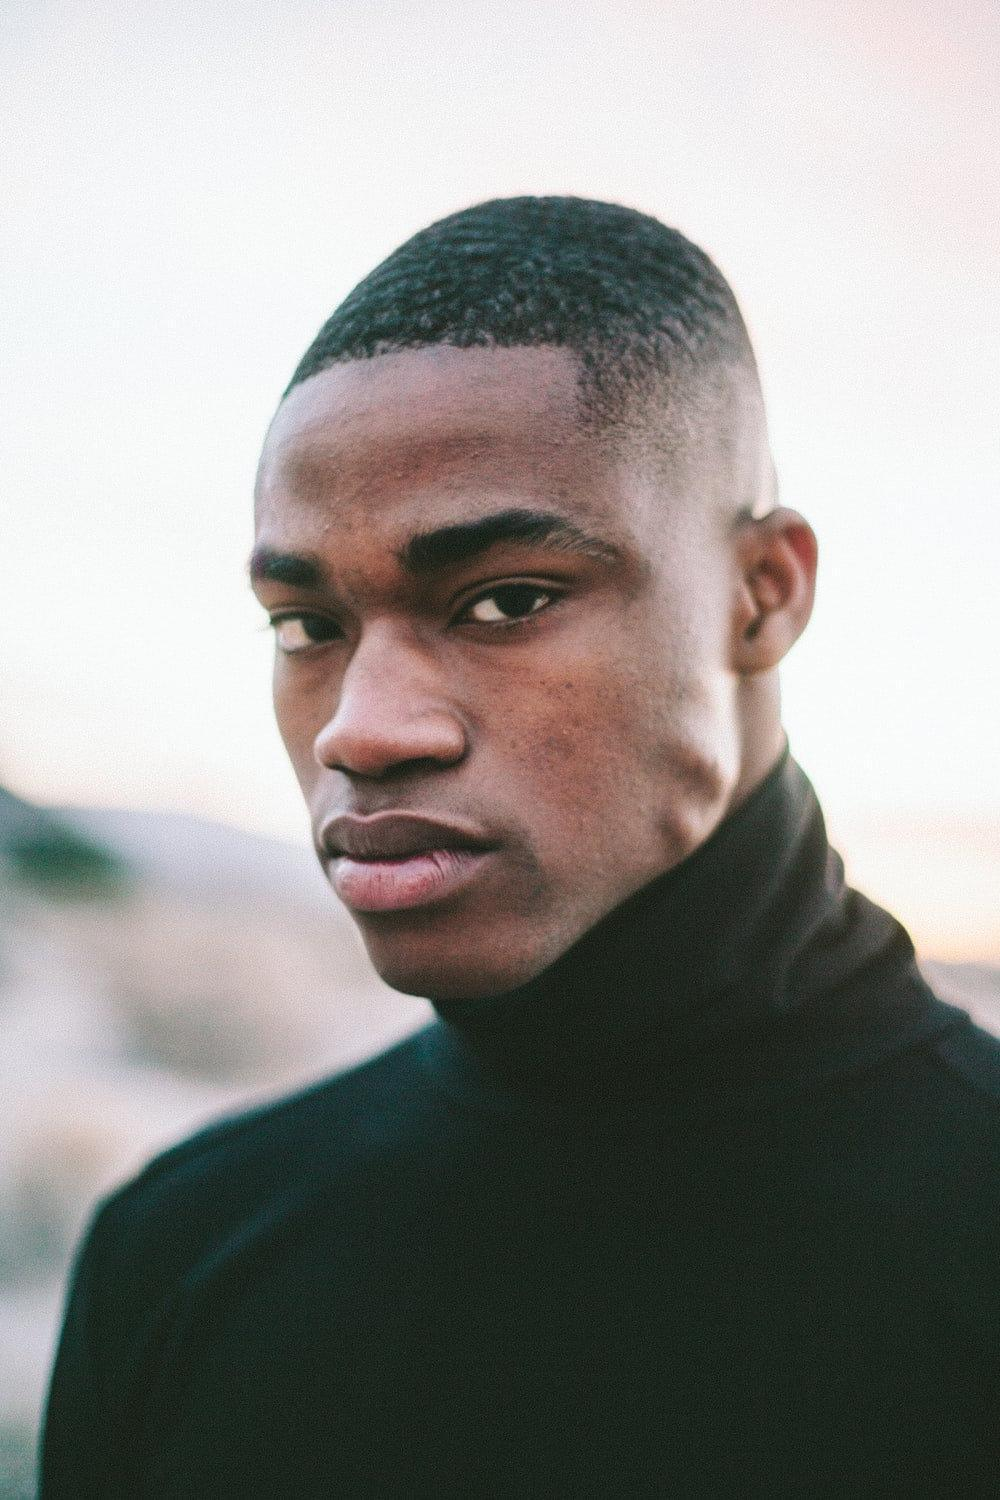Sober: (248, 381, 709, 935)
